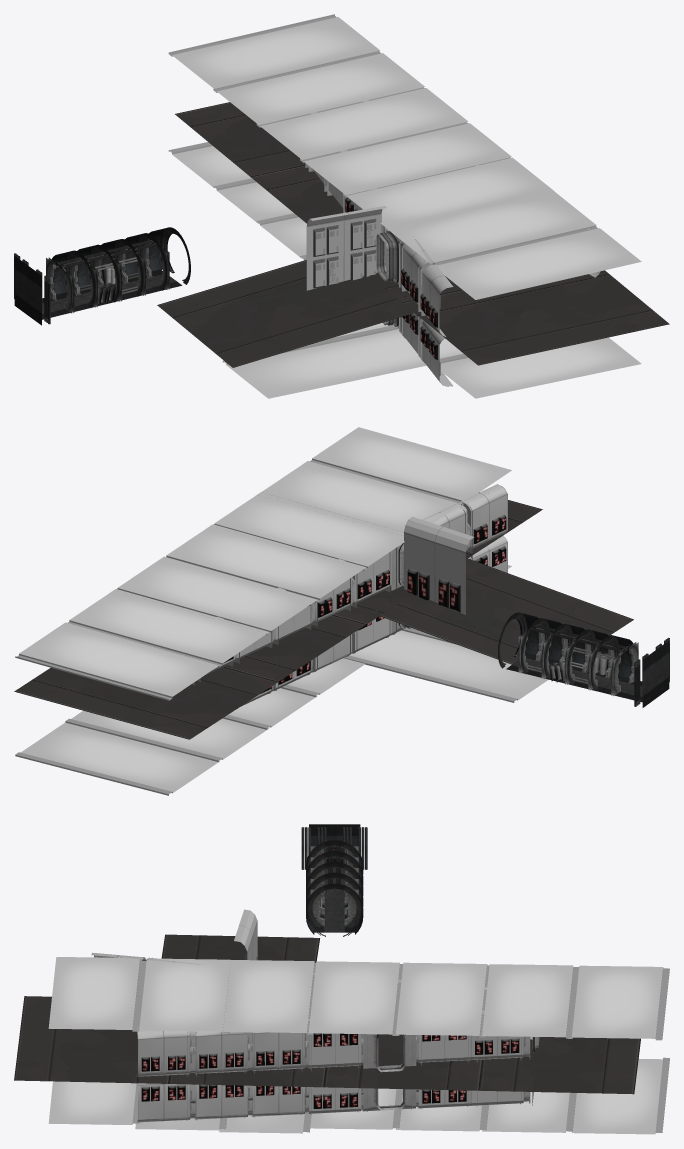
Rendered from env_leia_blockade_runner_pre.glb.
3 views of the same model, one above another, from view 1: azimuth 30°, elevation 25°; view 2: azimuth 150°, elevation 25°; view 3: azimuth 270°, elevation 25° (orthographic). The views are drawn at different scales.
Visible parts, largest first — view 1: brun_ceiling_mesh (5) (×2), jeditemplehall_floor_04_mesh (6), brun_ceiling_mesh (6) (×2), jeditemplehall_floor_04_mesh (7), brun_ceiling_mesh (×2), brun_ceiling_mesh (1) (×2), brun_ceiling_mesh (2) (×2), brun_ceiling_mesh (3), brun_ceiling_mesh (4), brun_wall_07_mesh (2), jeditemplehall_floor_04_mesh (8), jeditemplehall_floor_04_mesh (4) (+10 smaller); view 2: brun_ceiling_mesh (×2), brun_ceiling_mesh (4) (×2), brun_ceiling_mesh (1) (×2), jeditemplehall_floor_04_mesh (6), brun_ceiling_mesh (2) (×2), jeditemplehall_floor_04_mesh (8), brun_ceiling_mesh (3) (×2), brun_ceiling_mesh (6), brun_ceiling_mesh (5), brun_wall_07_mesh (2), jeditemplehall_floor_04_mesh (4), brun_wall_02_mesh (23) (×2) (+12 smaller); view 3: brun_ceiling_mesh (×2), brun_ceiling_mesh (6) (×2), brun_ceiling_mesh (1) (×2), brun_ceiling_mesh (2) (×2), brun_ceiling_mesh (3) (×2), brun_ceiling_mesh (4) (×2), jeditemplehall_floor_04_mesh (7), jeditemplehall_floor_04_mesh (8), brun_ceiling_mesh (5) (×2), jeditemplehall_floor_04_mesh (4), brun_wall_02_mesh (22) (×2), brun_wall_02_mesh (21) (×2) (+18 smaller).
Part boxes in pixels (box(x1,y1,x2,y2)): brun_ceiling_mesh (5) (×2): box(222, 191, 596, 398); jeditemplehall_floor_04_mesh (6): box(157, 260, 418, 367); brun_ceiling_mesh (6) (×2): box(430, 225, 641, 398); jeditemplehall_floor_04_mesh (7): box(402, 270, 669, 365); brun_ceiling_mesh (×2): box(168, 14, 379, 187); brun_ceiling_mesh (1) (×2): box(213, 51, 424, 224); brun_ceiling_mesh (2) (×2): box(256, 87, 467, 258); brun_ceiling_mesh (3): box(300, 122, 511, 194); brun_ceiling_mesh (4): box(343, 157, 554, 229); brun_wall_07_mesh (2): box(306, 206, 386, 290); jeditemplehall_floor_04_mesh (8): box(175, 102, 305, 176); jeditemplehall_floor_04_mesh (4): box(251, 165, 343, 223); brun_ceiling_mesh (×2): box(15, 622, 218, 795); brun_ceiling_mesh (4) (×2): box(214, 492, 548, 702); brun_ceiling_mesh (1) (×2): box(65, 589, 268, 761); jeditemplehall_floor_04_mesh (6): box(372, 558, 633, 664); brun_ceiling_mesh (2) (×2): box(117, 556, 317, 729); jeditemplehall_floor_04_mesh (8): box(14, 667, 277, 739); brun_ceiling_mesh (3) (×2): box(166, 524, 365, 697); brun_ceiling_mesh (6): box(310, 427, 511, 505); brun_ceiling_mesh (5): box(261, 461, 460, 532); brun_wall_07_mesh (2): box(404, 516, 474, 614); jeditemplehall_floor_04_mesh (4): box(223, 615, 365, 681); brun_wall_02_mesh (23) (×2): box(461, 484, 507, 572); brun_ceiling_mesh (×2): box(571, 965, 669, 1134); brun_ceiling_mesh (6) (×2): box(48, 957, 146, 1124); brun_ceiling_mesh (1) (×2): box(482, 964, 579, 1132); brun_ceiling_mesh (2) (×2): box(396, 962, 489, 1131); brun_ceiling_mesh (3) (×2): box(308, 961, 403, 1129); brun_ceiling_mesh (4) (×2): box(219, 960, 315, 1133); jeditemplehall_floor_04_mesh (7): box(14, 996, 169, 1083); jeditemplehall_floor_04_mesh (8): box(479, 1037, 640, 1094); brun_ceiling_mesh (5) (×2): box(135, 958, 230, 1130); jeditemplehall_floor_04_mesh (4): box(324, 1034, 482, 1090); brun_wall_02_mesh (22) (×2): box(136, 1028, 190, 1122); brun_wall_02_mesh (21) (×2): box(194, 1031, 247, 1119).
Size of the model in its own units: 31.36 by 7.31 by 38.39.
Materials: 10 (10 with a texture image).
